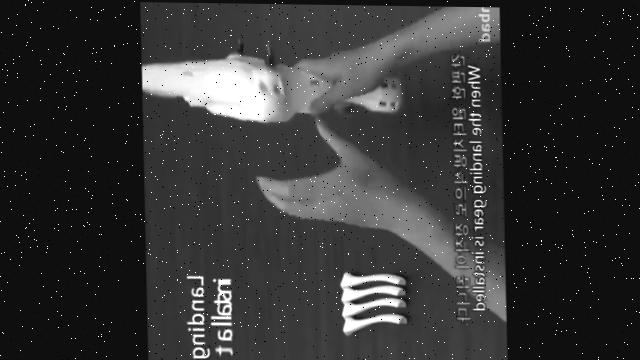drone: (141, 35, 410, 123)
